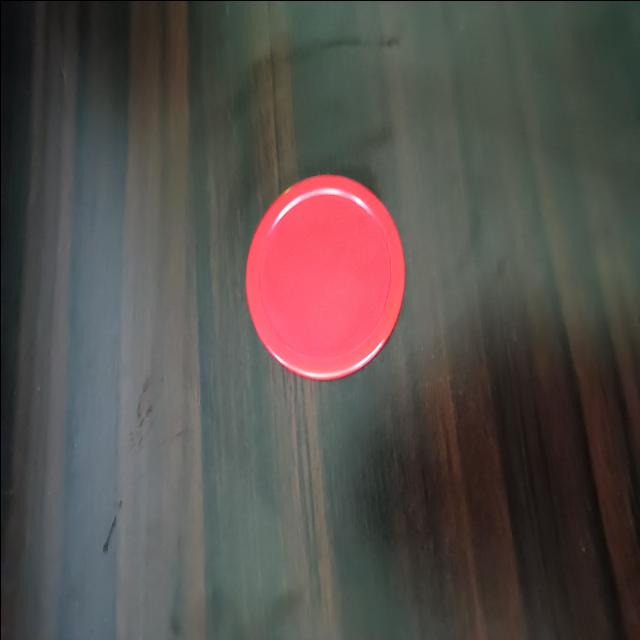chip: (235, 167, 410, 389)
